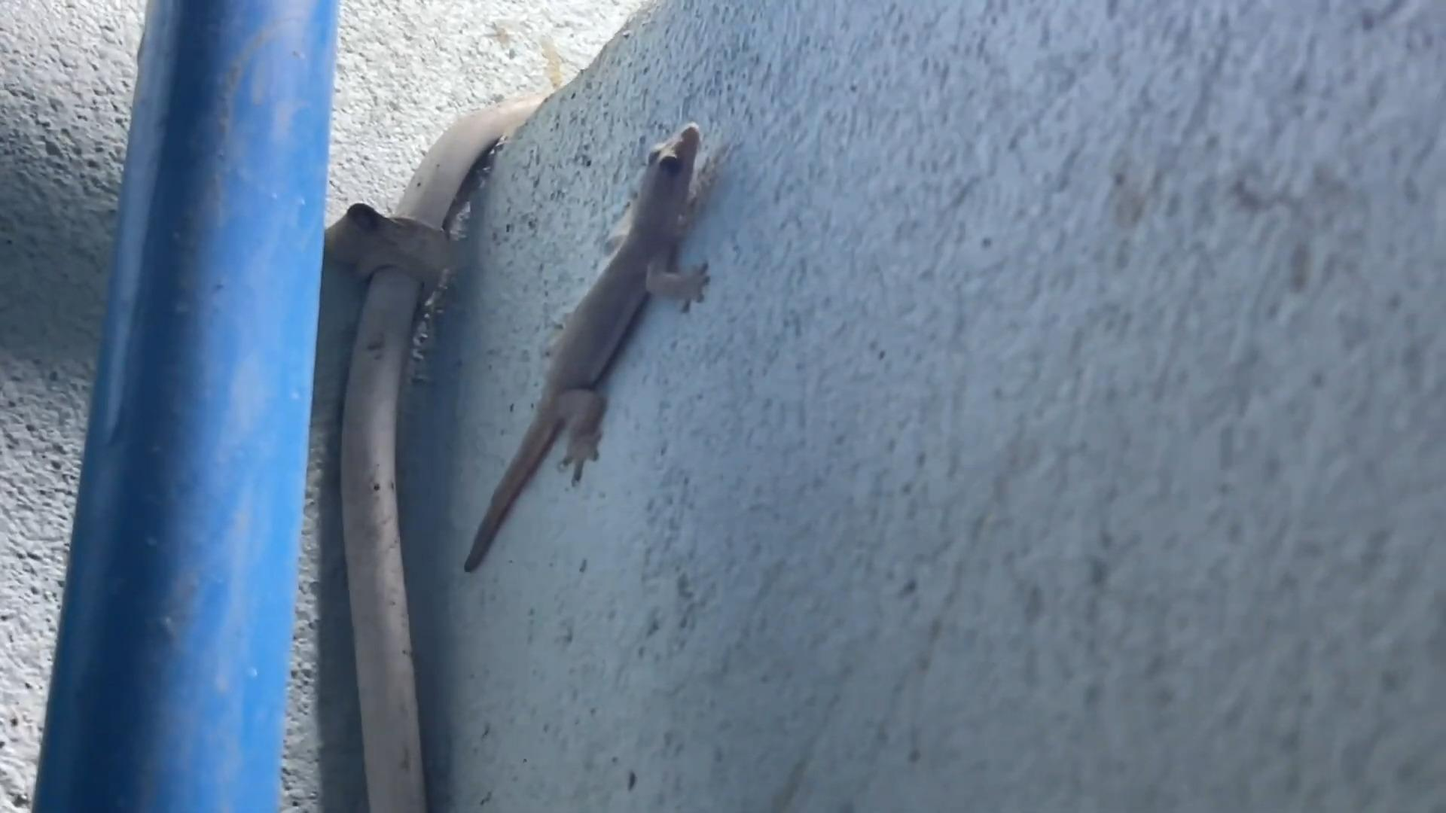lizard: (517, 124, 704, 502)
